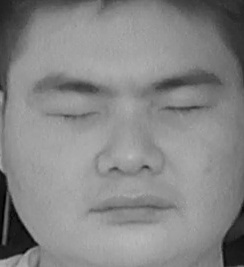blink: (45, 97, 104, 134), (163, 94, 214, 127)
mouth: (84, 183, 181, 238)
